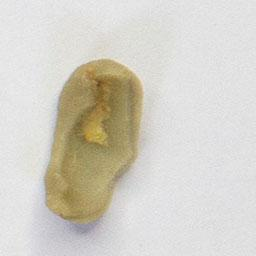defect: (41, 55, 145, 229)
